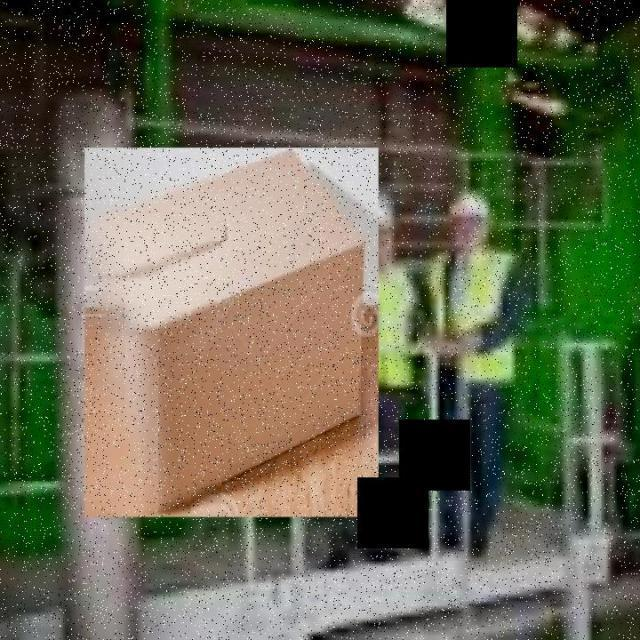box: (81, 143, 384, 523)
